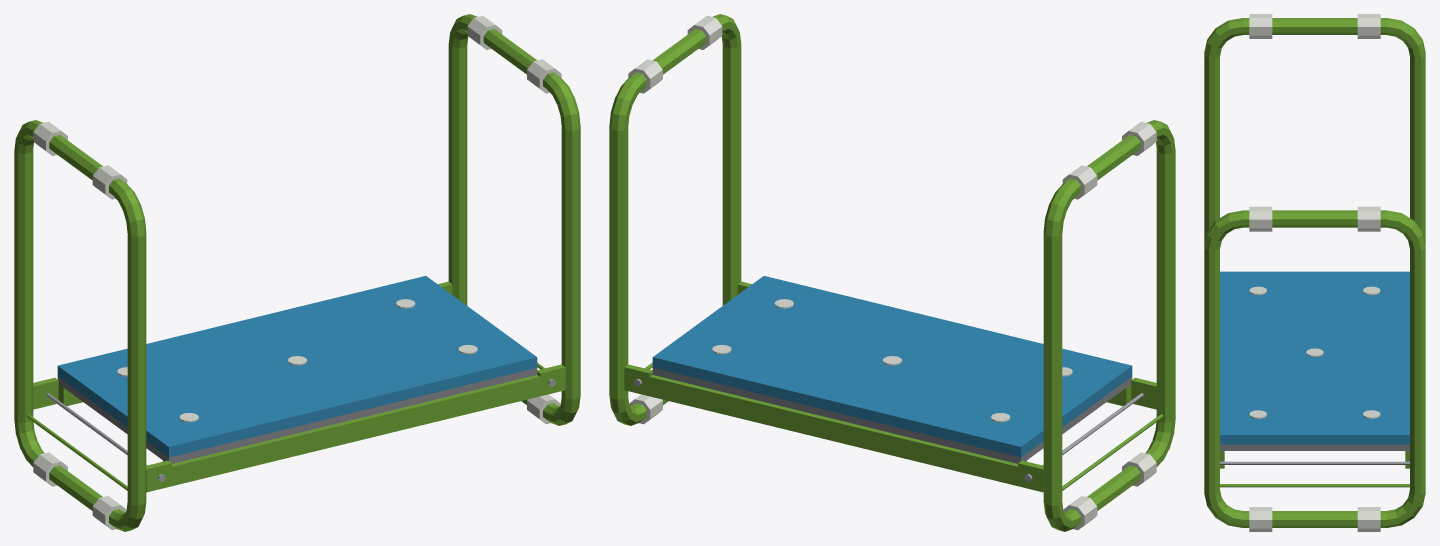
3 renders of one model, left to right at view 1: azimuth 30°, elevation 25°; view 2: azimuth 150°, elevation 25°; view 3: azimuth 270°, elevation 25°, orthographic. The views are drawn at different scales.
Parts seen in each view (by area): view 1: Continuous_foam_kneeling_pad, Left_closed_tube_frame_with_integral_protectors, Right_closed_tube_frame_with_integral_protectors, Front_longitudinal_support_rail, Perforated_reversible_seat_pan, Right_Front_hinge_plate, Left_Front_hinge_plate, Left_Back_hinge_plate; view 2: Continuous_foam_kneeling_pad, Left_closed_tube_frame_with_integral_protectors, Right_closed_tube_frame_with_integral_protectors, Back_longitudinal_support_rail, Perforated_reversible_seat_pan, Right_Back_hinge_plate, Left_Back_hinge_plate, Left_Front_hinge_plate; view 3: Continuous_foam_kneeling_pad, Right_closed_tube_frame_with_integral_protectors, Left_closed_tube_frame_with_integral_protectors, Perforated_reversible_seat_pan, Right_silver_locking_bar, Right_lower_transverse_brace.
Part boxes in pixels (left/top/right/bottom): Continuous_foam_kneeling_pad: left=57, top=276, right=537, bottom=457; Left_closed_tube_frame_with_integral_protectors: left=14, top=120, right=146, bottom=531; Right_closed_tube_frame_with_integral_protectors: left=448, top=14, right=580, bottom=425; Front_longitudinal_support_rail: left=163, top=375, right=540, bottom=486; Perforated_reversible_seat_pan: left=57, top=368, right=537, bottom=463; Right_Front_hinge_plate: left=537, top=364, right=565, bottom=396; Left_Front_hinge_plate: left=146, top=460, right=171, bottom=492; Left_Back_hinge_plate: left=33, top=377, right=58, bottom=409; Continuous_foam_kneeling_pad: left=652, top=276, right=1132, bottom=457; Left_closed_tube_frame_with_integral_protectors: left=1043, top=120, right=1175, bottom=531; Right_closed_tube_frame_with_integral_protectors: left=609, top=14, right=741, bottom=425; Back_longitudinal_support_rail: left=649, top=375, right=1026, bottom=486; Perforated_reversible_seat_pan: left=652, top=368, right=1132, bottom=463; Right_Back_hinge_plate: left=624, top=364, right=652, bottom=396; Left_Back_hinge_plate: left=1018, top=460, right=1043, bottom=492; Left_Front_hinge_plate: left=1131, top=377, right=1156, bottom=409; Continuous_foam_kneeling_pad: left=1220, top=271, right=1409, bottom=444; Right_closed_tube_frame_with_integral_protectors: left=1204, top=206, right=1425, bottom=531; Left_closed_tube_frame_with_integral_protectors: left=1204, top=14, right=1425, bottom=243; Perforated_reversible_seat_pan: left=1220, top=444, right=1409, bottom=450; Right_silver_locking_bar: left=1220, top=461, right=1409, bottom=464; Right_lower_transverse_brace: left=1220, top=484, right=1409, bottom=487.
Size of the model in its own units: 0.54 by 0.4 by 0.25.
